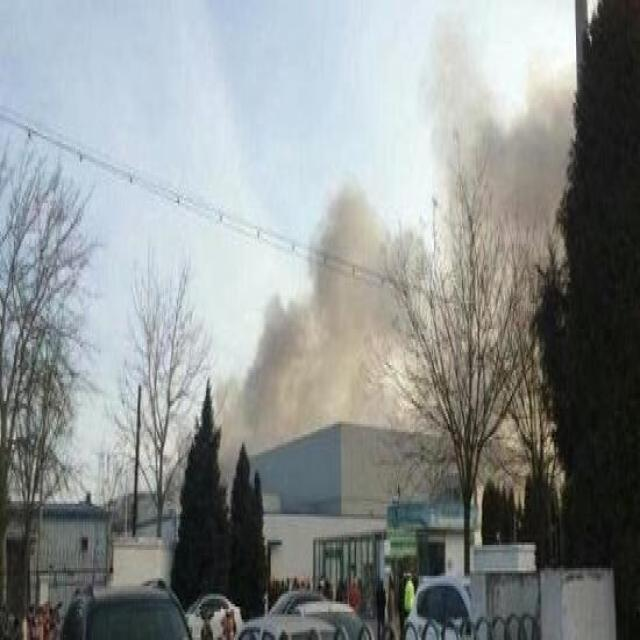Smoke: (214, 18, 576, 476)
